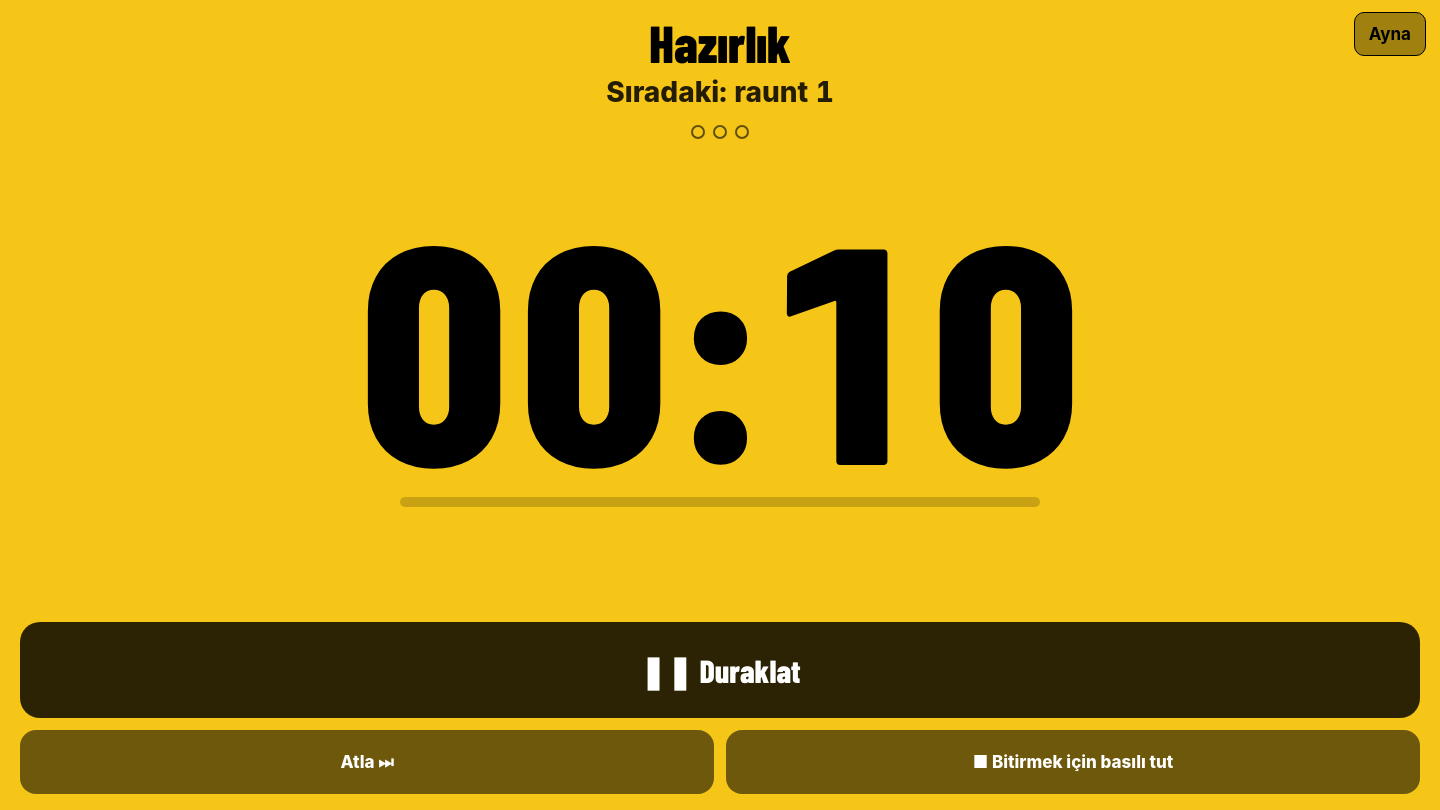
Aktif antrenman ekranı › duraklat / devam
The image size is (1440, 810).
Click the button "❚❚ Duraklat" at [720, 670], box [20,622,1420,718]
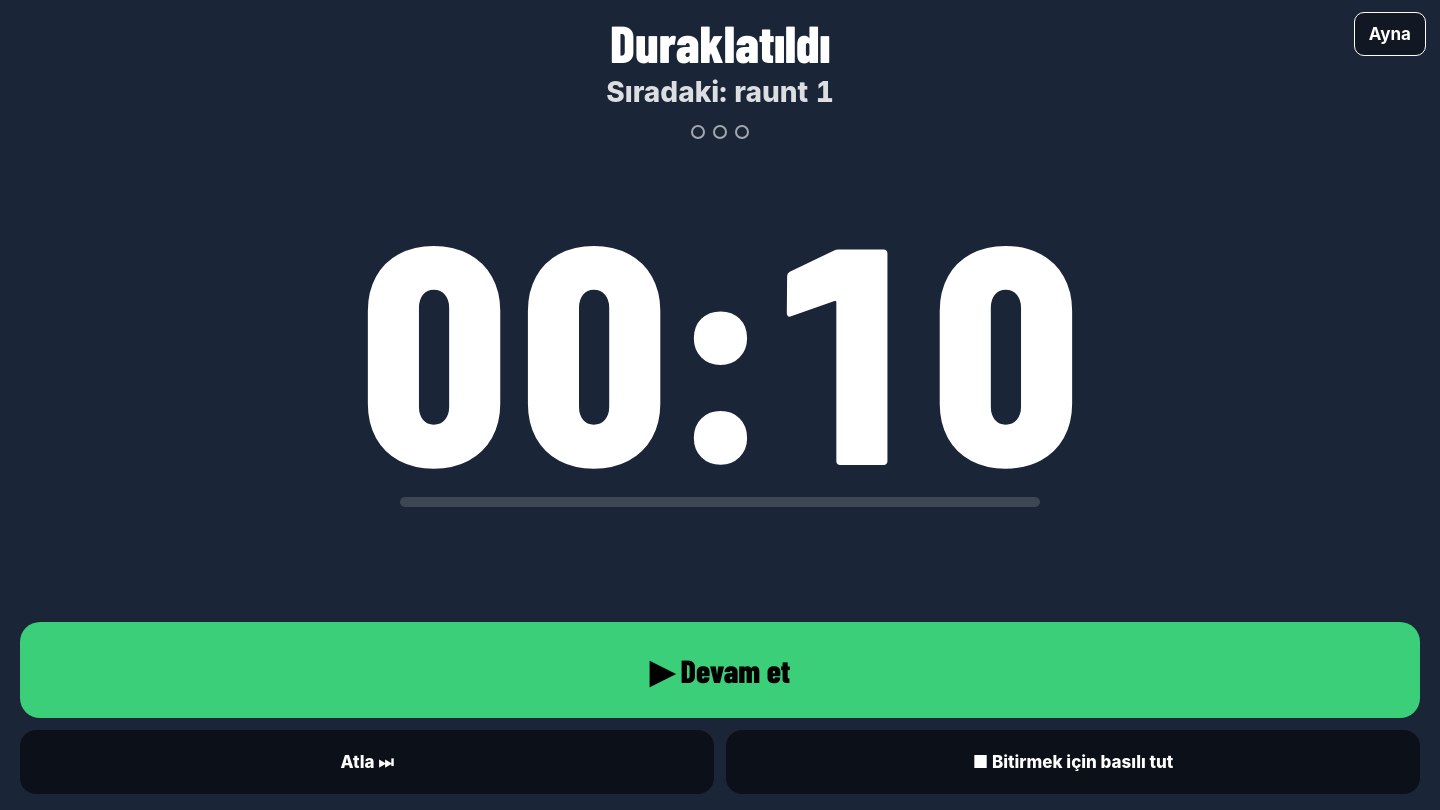
Expected: the text "00:10" is shown, [354,204,1086,481]
Expected: the text "Duraklatıldı" is shown, [610,11,830,73]
Click the button "▶︎ Devam et" at [720, 670], box [20,622,1420,718]
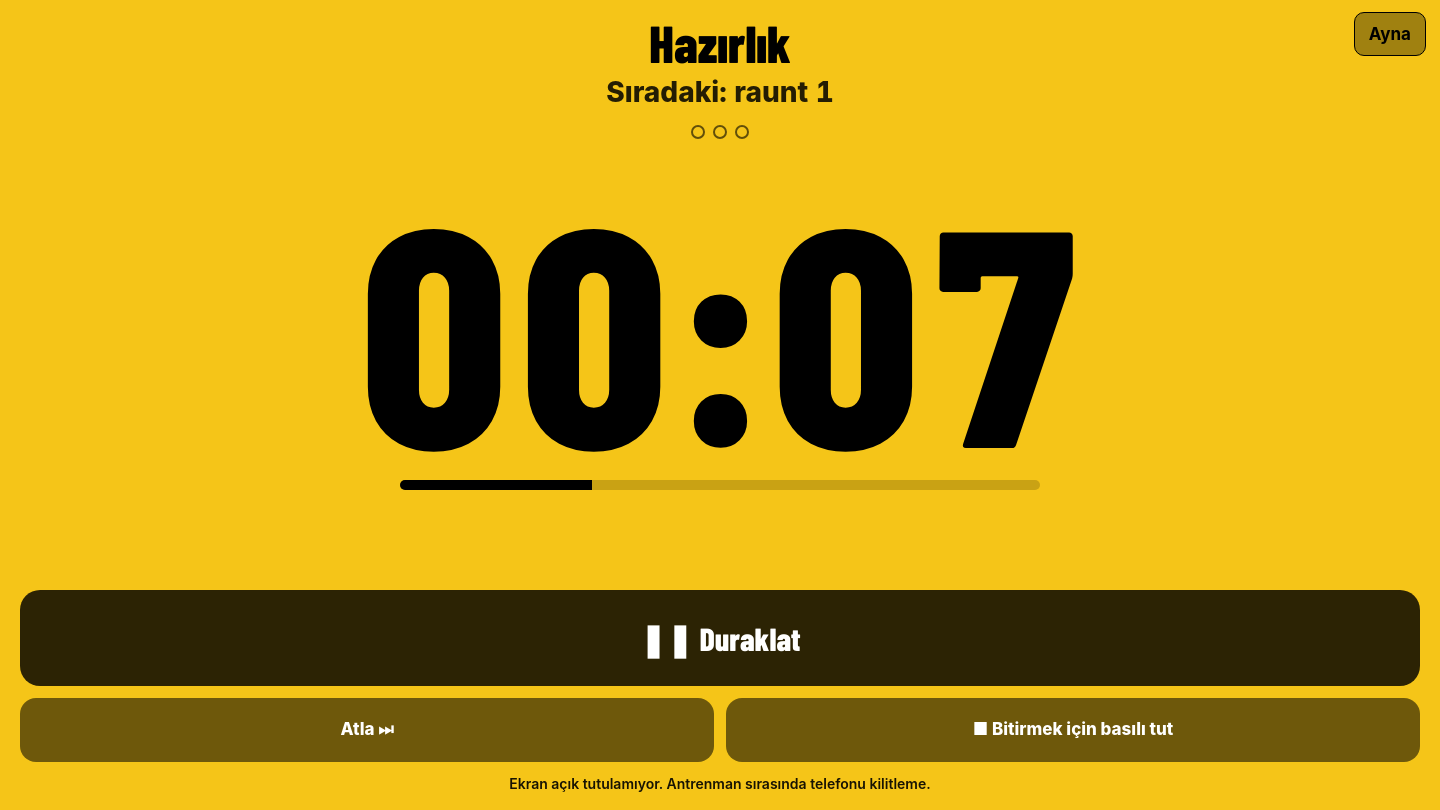
Expected: the text "00:07" is shown, [354,187,1086,464]
